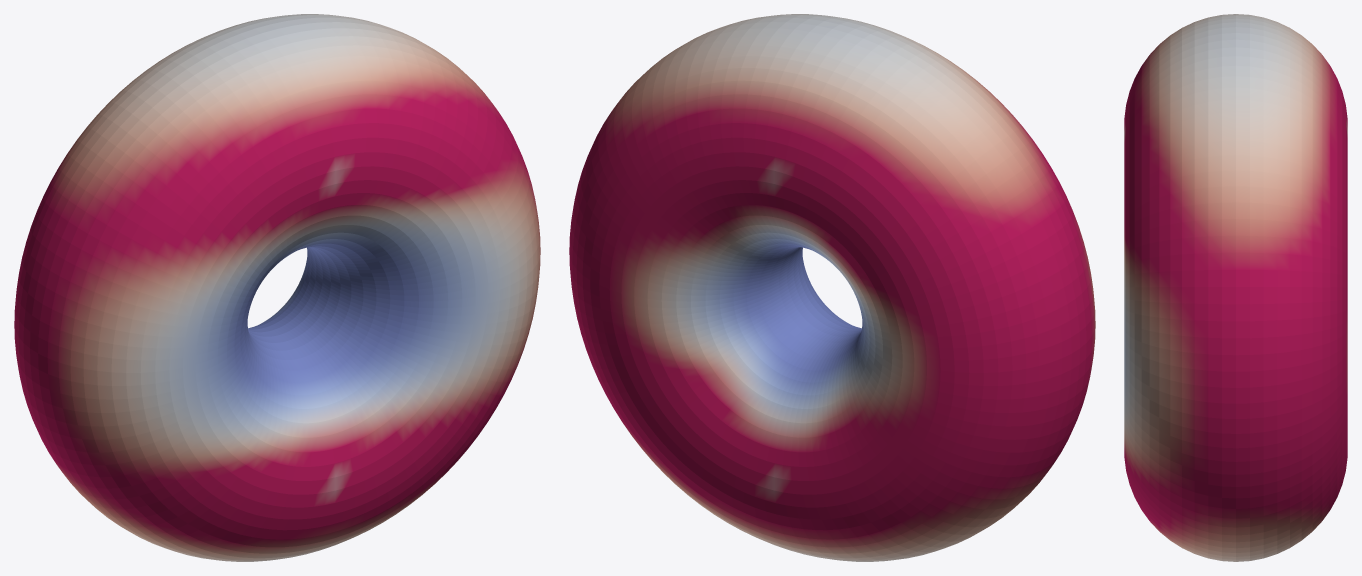
The picture shows the model from 3 angles, left to right: view 1: azimuth 30°, elevation 25°; view 2: azimuth 150°, elevation 25°; view 3: azimuth 270°, elevation 25°; orthographic projection. The views are drawn at different scales.
Visible parts, largest first — view 1: world; view 2: world; view 3: world.
Part boxes in pixels (<box>): world: <box>14,14,540,561</box>; world: <box>569,14,1095,561</box>; world: <box>1124,14,1347,561</box>.
Bounding box in the file's own units: 22.53 × 22.53 × 9.18.
